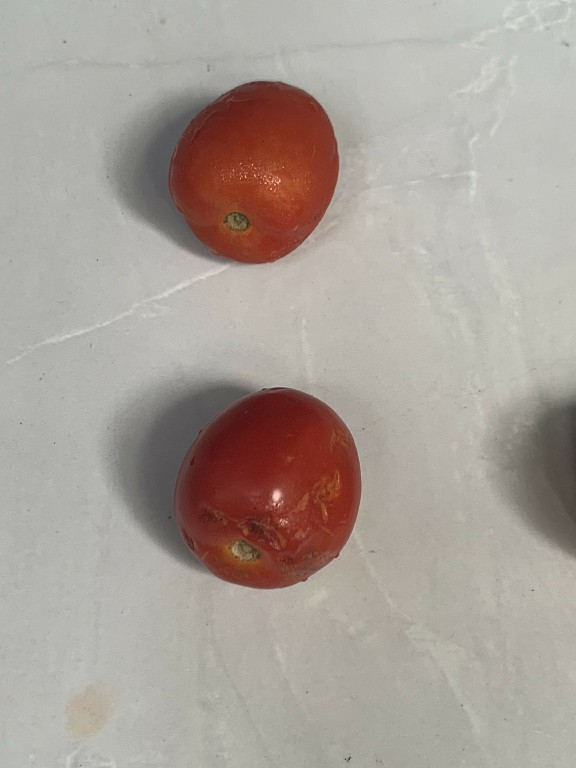NG: (179, 380, 361, 591)
OK: (172, 71, 343, 269)
